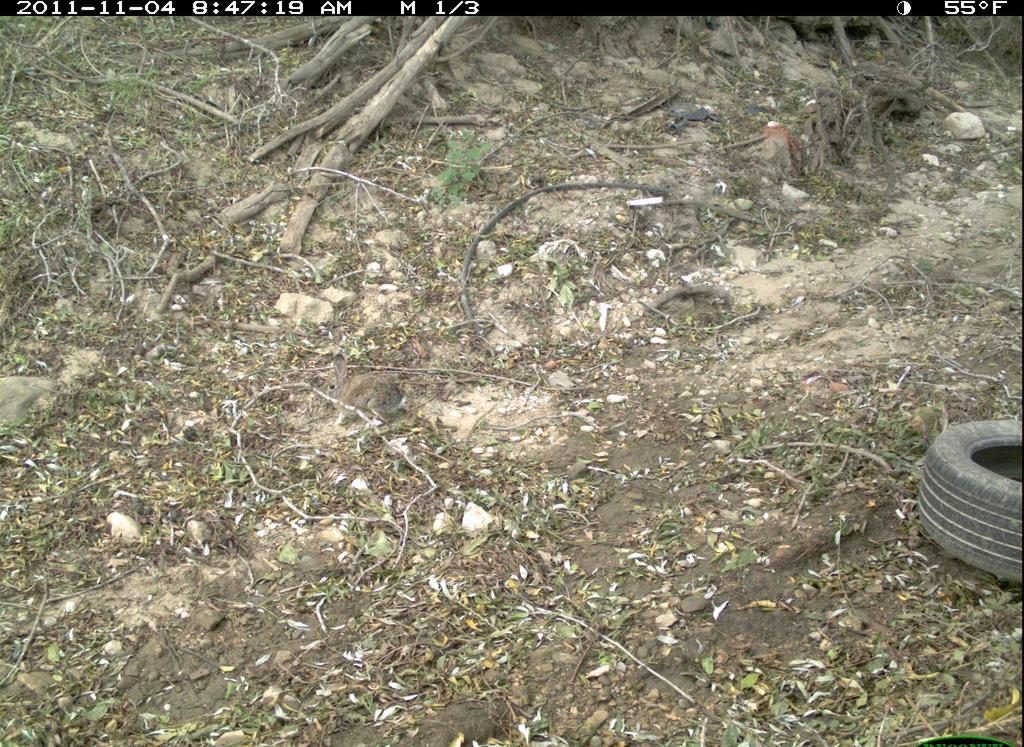rabbit: (314, 345, 417, 433)
